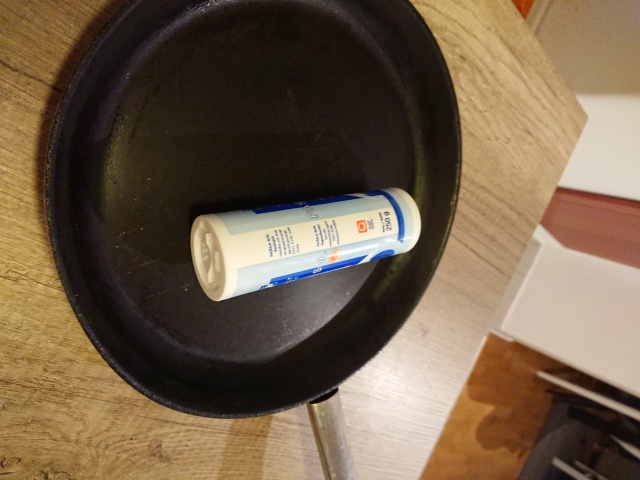Solana Pag Fine Sea Salt 250g: (187, 184, 424, 305)
